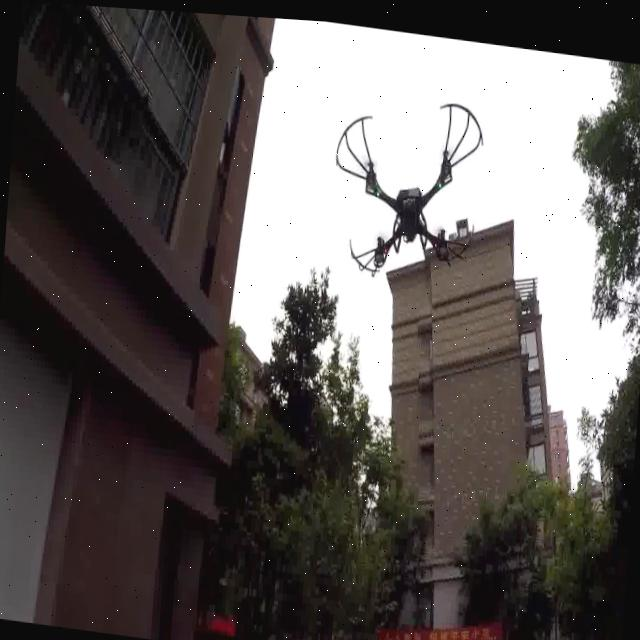drone: (324, 75, 495, 289)
